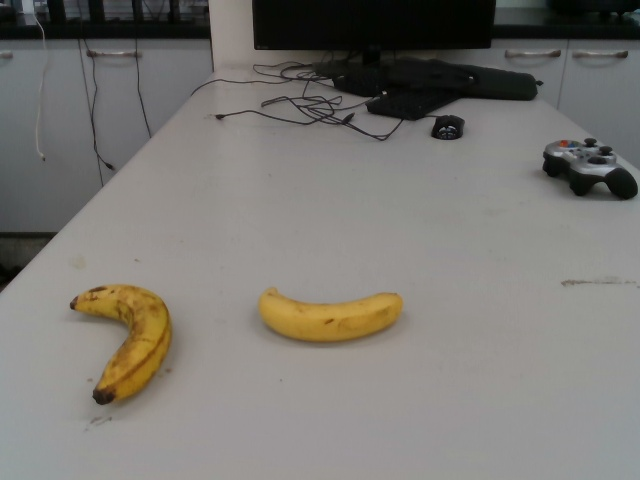banana: (69, 282, 172, 405), (255, 285, 403, 343)
